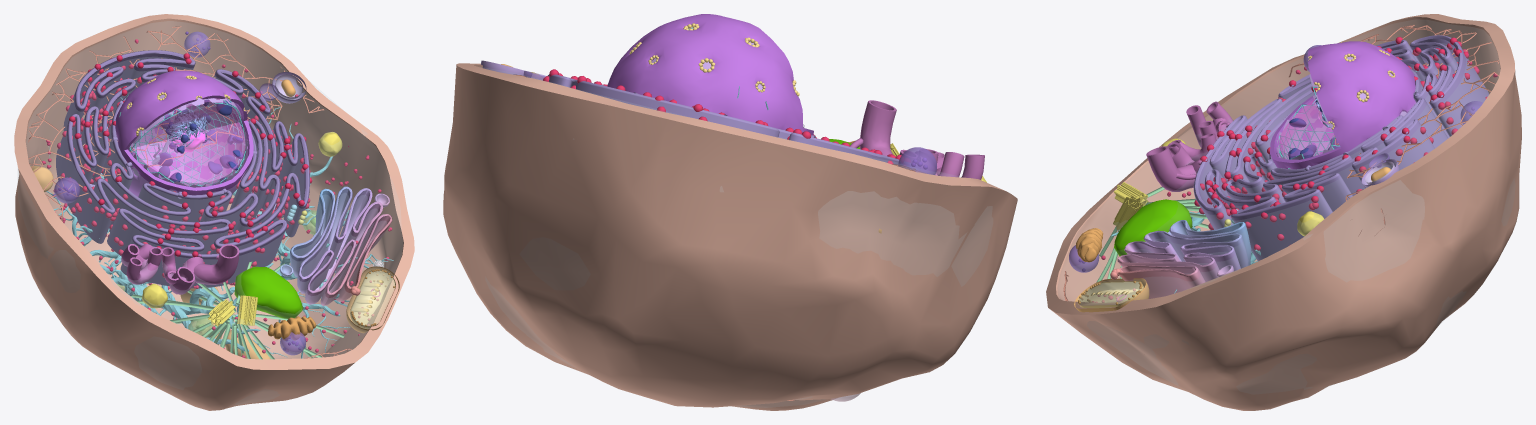
File: celula.glb
3 views of the same model, side by side, from view 1: azimuth 30°, elevation 25°; view 2: azimuth 150°, elevation 25°; view 3: azimuth 270°, elevation 25° (orthographic). The views are drawn at different scales.
Visible parts, largest first — view 1: Membrana_plasmatica, Citosol, Reticulo_endoplasmatico_rugoso, Aparato_de_Golgi, Envoltura_nuclear, Nucleoplasma, Filamentos_intermedios, Reticulo_endoplasmatico_liso, Membrana_nuclear_interna, Microfilamentos_actina, Microtubulos, Vacuola (+17 smaller); view 2: Membrana_plasmatica, Envoltura_nuclear, Citosol, Reticulo_endoplasmatico_rugoso, Reticulo_endoplasmatico_liso, Lisosomas, Poros_nucleares; view 3: Membrana_plasmatica, Citosol, Reticulo_endoplasmatico_rugoso, Envoltura_nuclear, Aparato_de_Golgi, Reticulo_endoplasmatico_liso, Nucleoplasma, Vacuola, Microfilamentos_actina, Ribosomas_1, Ribosomas_2, Membrana_nuclear_interna (+11 smaller).
Boxes of the visible parts, x1,y1,x2,y2 form: Membrana_plasmatica: (14,14,414,410); Citosol: (18,21,402,404); Reticulo_endoplasmatico_rugoso: (56,50,309,288); Aparato_de_Golgi: (279,186,392,305); Envoltura_nuclear: (115,70,253,196); Nucleoplasma: (129,97,245,186); Filamentos_intermedios: (46,94,393,358); Reticulo_endoplasmatico_liso: (121,244,239,294); Membrana_nuclear_interna: (128,94,247,192); Microfilamentos_actina: (28,26,351,358); Microtubulos: (127,261,344,359); Vacuola: (234,266,303,318); Membrana_plasmatica: (443,63,1017,410); Envoltura_nuclear: (607,14,813,135); Citosol: (485,68,992,407); Reticulo_endoplasmatico_rugoso: (547,74,899,164); Reticulo_endoplasmatico_liso: (860,100,984,179); Lisosomas: (898,147,936,174); Poros_nucleares: (629,23,799,96); Membrana_plasmatica: (1046,14,1521,410); Citosol: (1058,20,1514,393); Reticulo_endoplasmatico_rugoso: (1193,35,1488,261); Envoltura_nuclear: (1270,41,1415,169); Aparato_de_Golgi: (1117,220,1251,298); Reticulo_endoplasmatico_liso: (1146,101,1233,191); Nucleoplasma: (1278,88,1339,159); Vacuola: (1114,199,1192,256); Microfilamentos_actina: (1063,24,1499,301); Ribosomas_1: (1194,37,1487,250); Ribosomas_2: (1199,46,1479,222); Membrana_nuclear_interna: (1276,56,1406,169).
Size of the model in its own units: 596 by 477 by 626.
